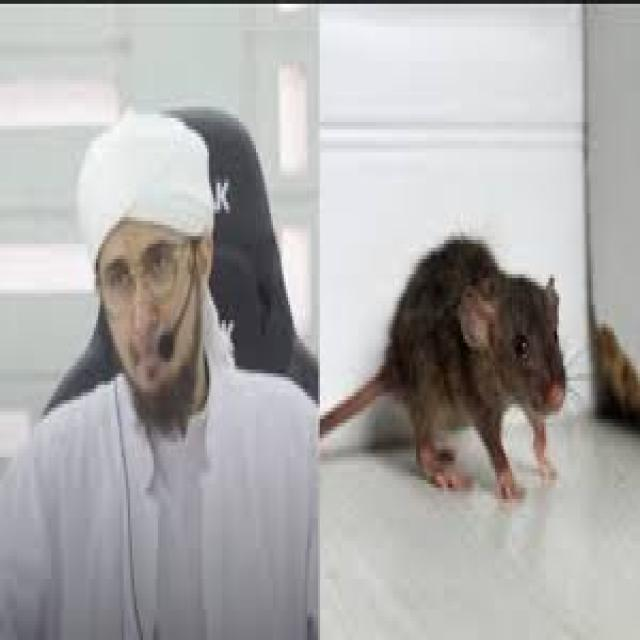rat: (387, 222, 572, 540)
